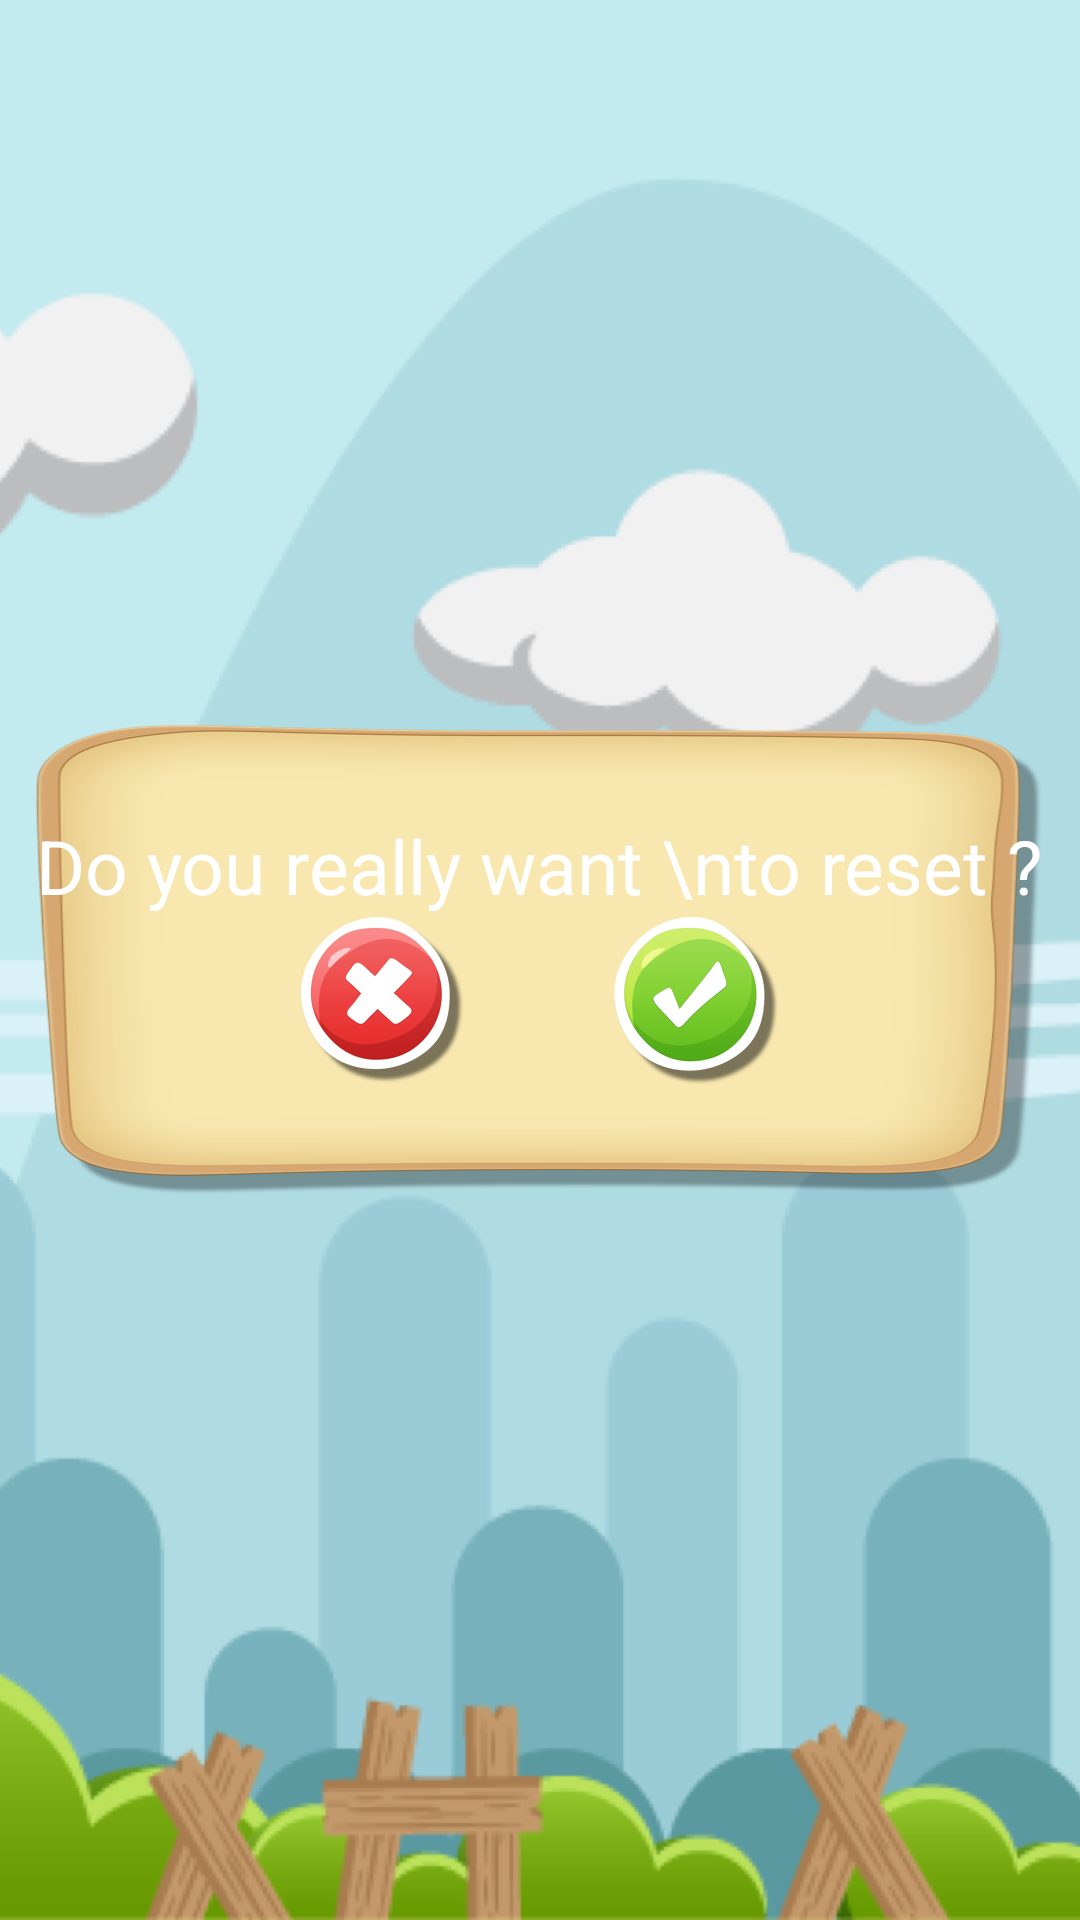

Icons on this 1080 x 1920 Android screen, each with the point to tap as [x,y]:
quit: [381,999]
right: [695,999]
